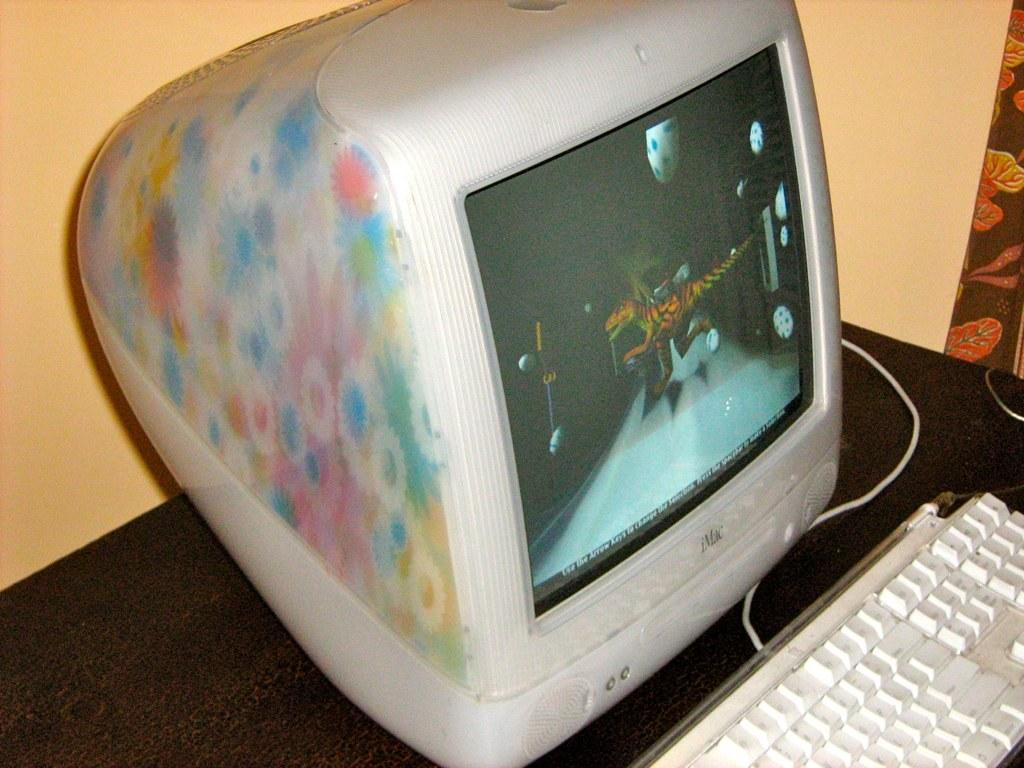Computer-keyboard: (623, 340, 1023, 767)
